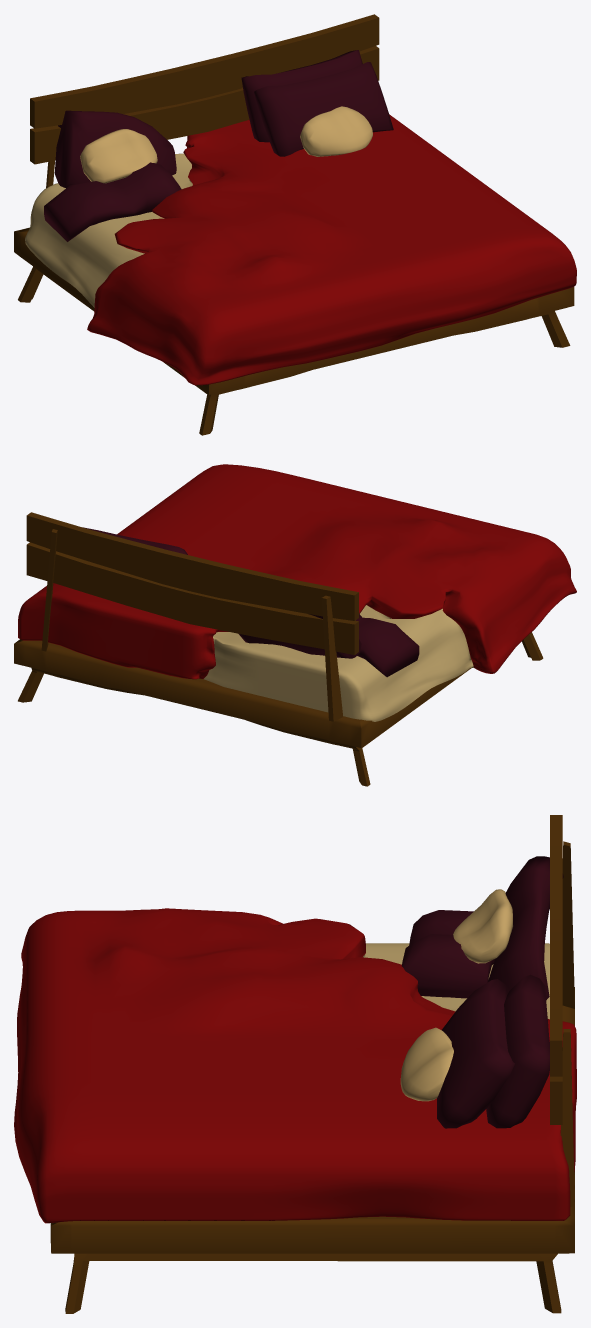
File: halfMadeBed.fbx
3 views of the same model, one above another, from view 1: azimuth 30°, elevation 25°; view 2: azimuth 150°, elevation 25°; view 3: azimuth 270°, elevation 25° (orthographic). The views are drawn at different scales.
Parts seen in each view (by area): view 1: polySurface16, pCube18, polySurface15, pCube22, polySurface17, pCube19, pCube17, pCube20, pCube23, pCube24, pCube21; view 2: polySurface16, polySurface15, polySurface17, pCube18, pCube17, pCube19, pCube20, pCube22; view 3: polySurface16, polySurface15, pCube22, pCube21, pCube19, pCube20, pCube18, pCube23, pCube24, polySurface17, pCube17.
Part boxes in pixels (x1,y1,x2,y2): polySurface16: [87, 114, 576, 385]; pCube18: [30, 14, 379, 128]; polySurface15: [14, 160, 574, 435]; pCube22: [254, 62, 393, 156]; polySurface17: [25, 153, 192, 307]; pCube19: [44, 162, 181, 241]; pCube17: [30, 46, 379, 164]; pCube20: [54, 110, 176, 187]; pCube23: [80, 129, 157, 183]; pCube24: [300, 106, 372, 156]; pCube21: [241, 50, 362, 142]; polySurface16: [18, 464, 576, 679]; polySurface15: [14, 529, 543, 786]; polySurface17: [204, 605, 473, 721]; pCube18: [26, 512, 358, 620]; pCube17: [26, 542, 358, 654]; pCube19: [356, 614, 419, 677]; pCube20: [238, 614, 361, 658]; pCube22: [83, 527, 187, 554]; polySurface16: [14, 908, 576, 1223]; polySurface15: [50, 841, 574, 1313]; pCube22: [437, 979, 514, 1128]; pCube21: [486, 974, 549, 1128]; pCube19: [402, 910, 493, 998]; pCube20: [488, 856, 563, 999]; pCube18: [550, 815, 562, 1076]; pCube23: [453, 889, 512, 963]; pCube24: [400, 1027, 453, 1101]; polySurface17: [363, 943, 549, 1019]; pCube17: [550, 1076, 562, 1124].
Bounding box in the file's own units: 269 × 128 × 244.
